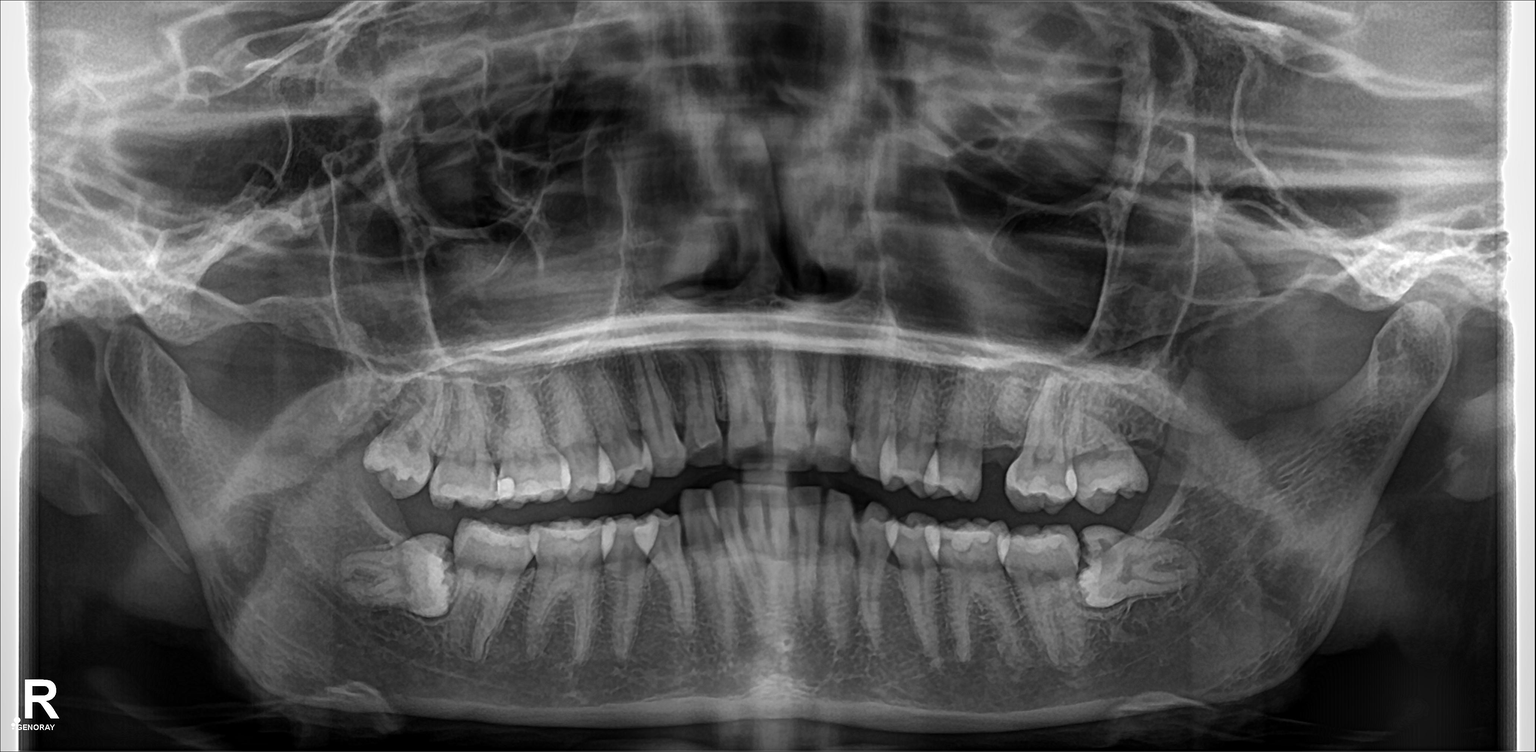Impacted Third Molar: (326, 549, 457, 612), (1076, 536, 1190, 600)
Missing Tooth: (1129, 411, 1164, 496), (981, 423, 1016, 489)
